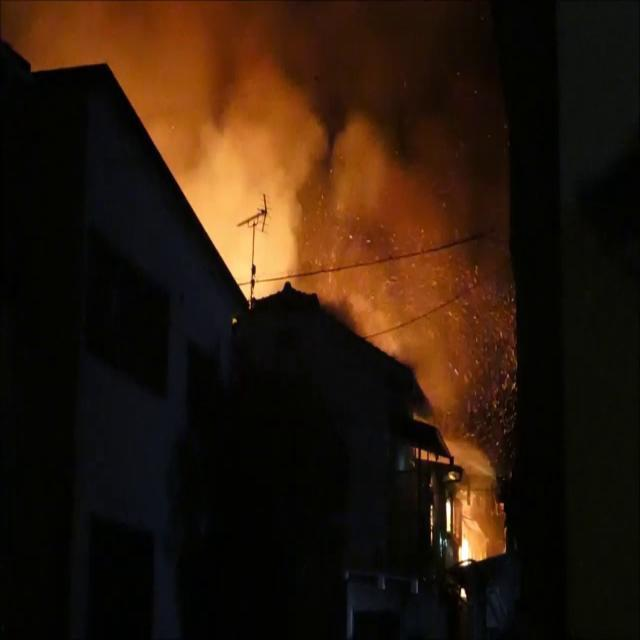Smoke: (59, 0, 497, 274), (328, 134, 534, 471)
